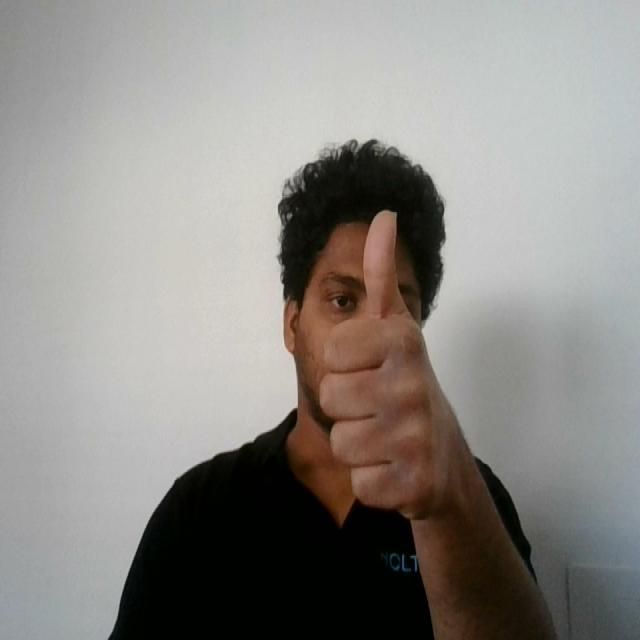Yes: (313, 201, 469, 531)
